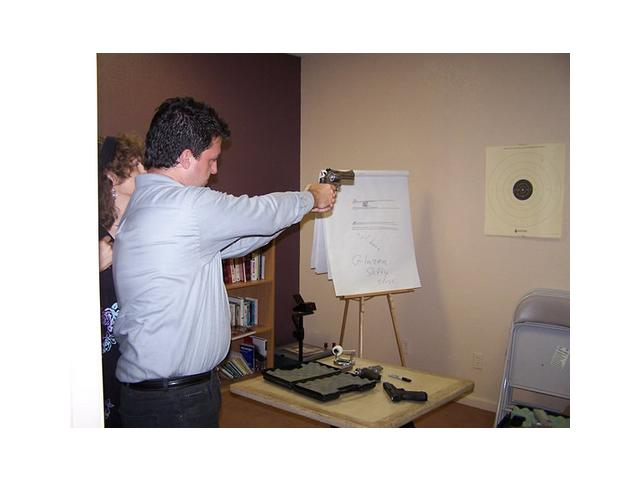pistol: (315, 167, 358, 217), (381, 378, 429, 405)
